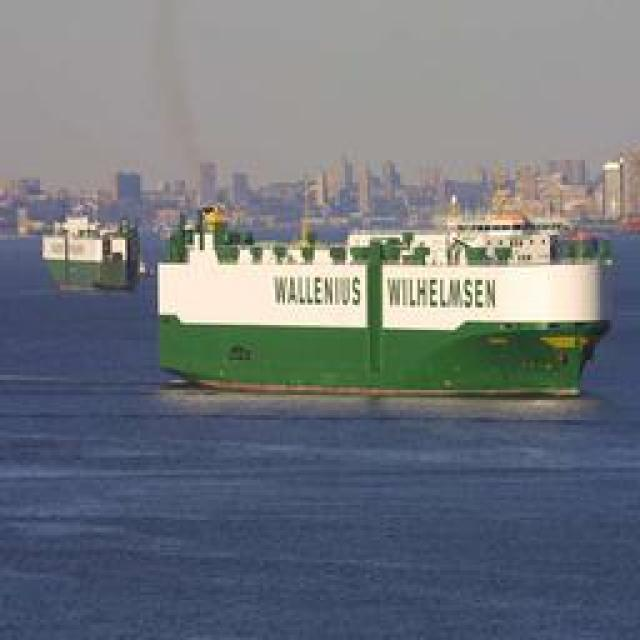CIV_Ship: (165, 232, 605, 390)
